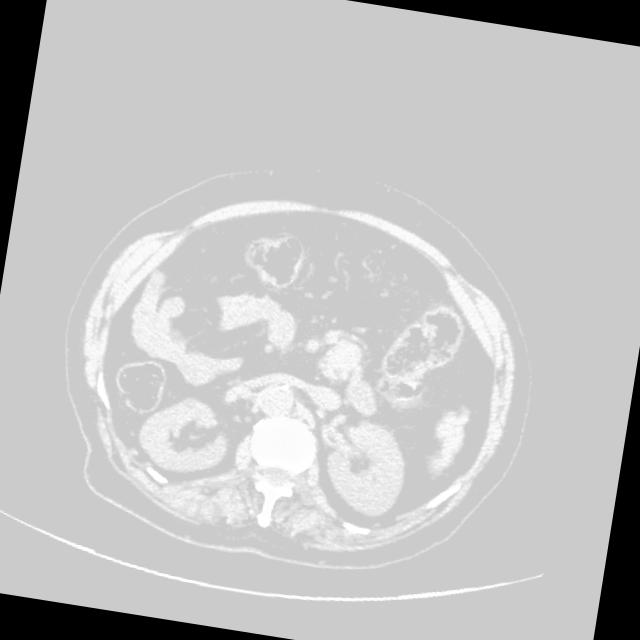cysts: (41, 141, 553, 595)
